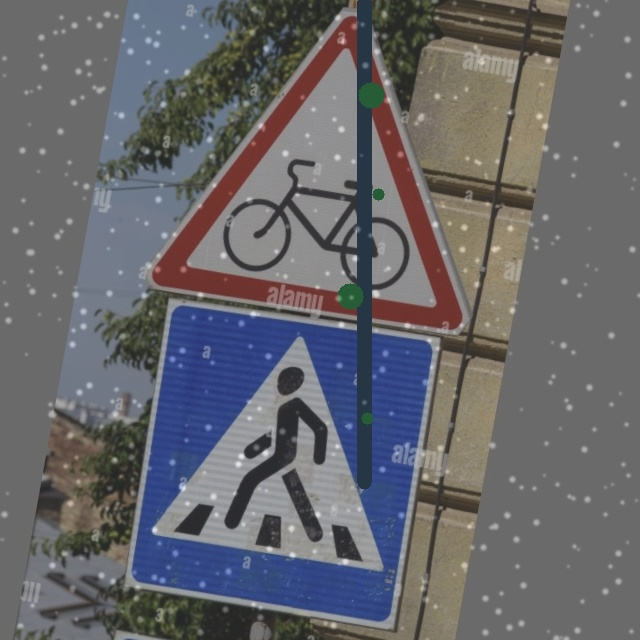Cycle_Crossing: (170, 1, 509, 333)
